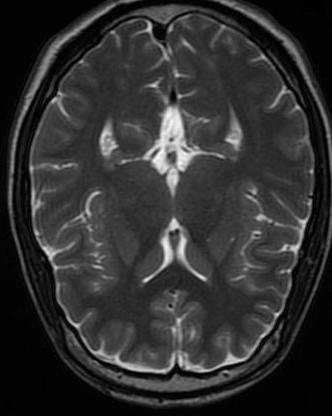Normal_Brain: (1, 1, 332, 416)
